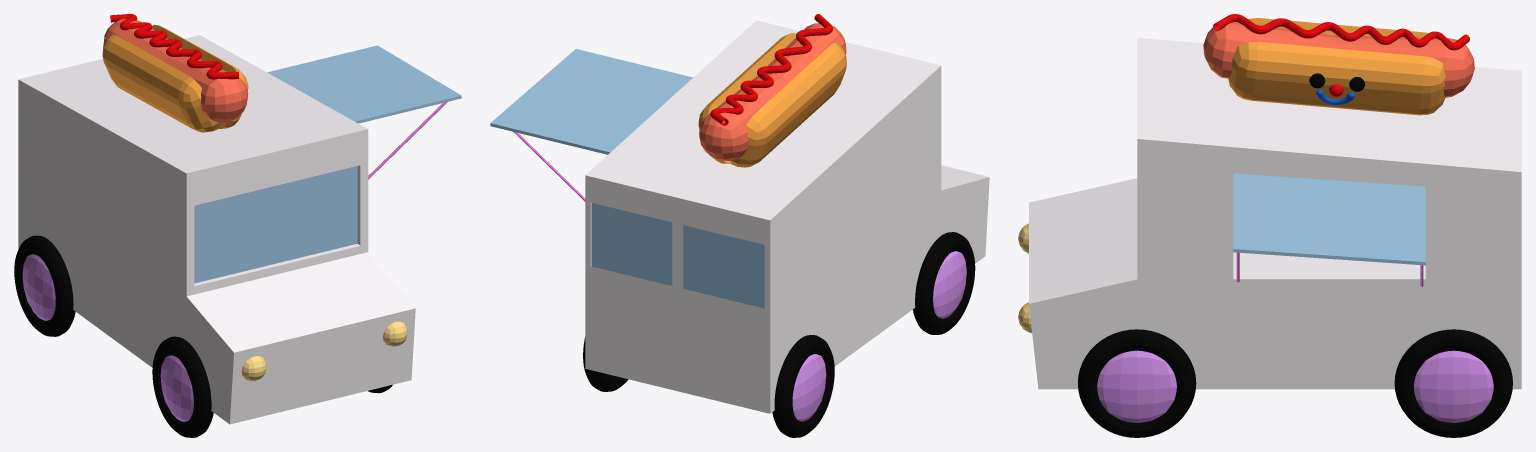
File: FOOD TRUCK V2.glb
3 views of the same model, side by side, from view 1: azimuth 30°, elevation 25°; view 2: azimuth 150°, elevation 25°; view 3: azimuth 270°, elevation 25° (orthographic). The views are drawn at different scales.
Parts seen in each view (by area): view 1: FOOD TRUCK; view 2: FOOD TRUCK; view 3: FOOD TRUCK.
Part boxes in pixels (x1,y1,x2,y2): FOOD TRUCK: [14, 14, 461, 437]; FOOD TRUCK: [490, 14, 989, 437]; FOOD TRUCK: [1018, 14, 1521, 437].
Size of the model in its own units: 26.49 by 24.13 by 30.58.
